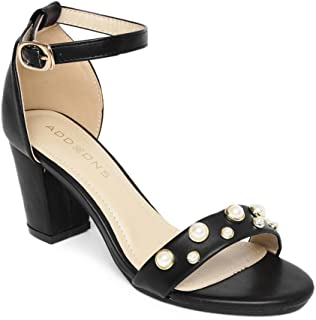shoes: (1, 1, 316, 320)
